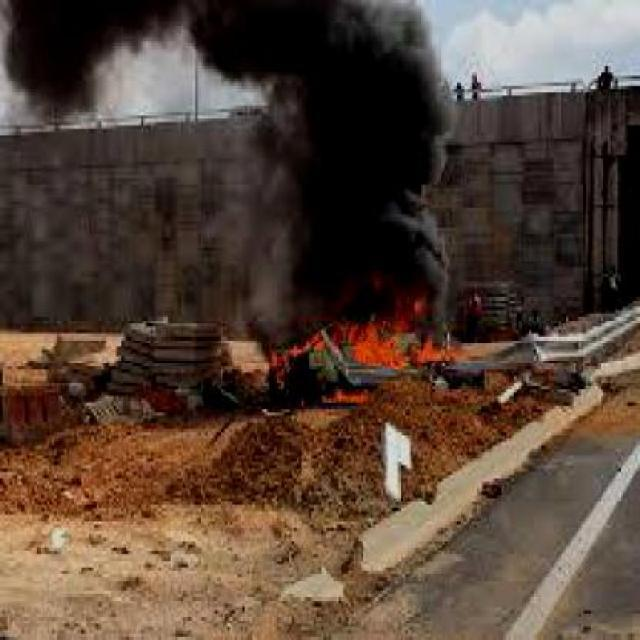Fire: (274, 270, 460, 396)
Smoke: (0, 0, 463, 265)
